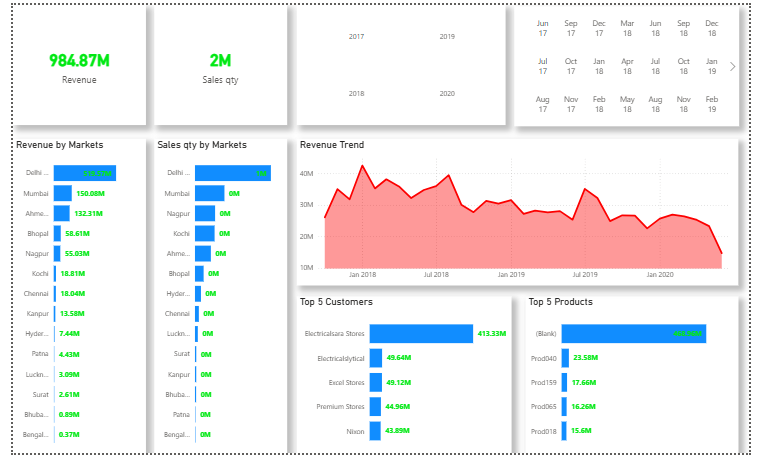

What the dashboard file says about the page in this screenshot:
{"tool":"powerbi","page":{"name":"Page 1","canvas":[1280,780],"ordinal":0},"visuals":[{"type":"card","fields":{"Values":["BaseMeasure.Revenue"]},"box":[0,0,231,209.1],"z":0},{"type":"card","fields":{"Values":["BaseMeasure.Sales qty"]},"box":[244.6,0,230.8,208.4],"z":1000},{"type":"barChart","title":"Revenue by Markets","fields":{"Y":["BaseMeasure.Revenue"],"Category":["markets.markets_name"]},"box":[0,232.6,230.8,547.8],"z":2000},{"type":"barChart","title":"Sales qty by Markets","fields":{"Y":["BaseMeasure.Sales qty"],"Category":["markets.markets_name"]},"box":[244.6,232.6,230.8,547.8],"z":3000},{"type":"slicer","fields":{"Values":["date.year"]},"box":[494,0,363.5,208.4],"z":4000},{"type":"slicer","fields":{"Values":["date.cy_date"]},"box":[871.6,1.7,391,208.4],"z":4001},{"type":"barChart","title":"Top 5 Customers","fields":{"Y":["BaseMeasure.Revenue"],"Category":["customers.custmer_name"]},"box":[494.4,506.5,373.8,273.9],"z":4002},{"type":"barChart","title":"Top 5 Products","fields":{"Y":["BaseMeasure.Revenue"],"Category":["products.product_code"]},"box":[892.3,506.5,370.4,273.9],"z":4003},{"type":"lineChart","title":"Revenue Trend","fields":{"Y":["BaseMeasure.Revenue"],"Category":["date.cy_date"]},"box":[494.4,232.6,768.3,254.9],"z":4004}]}

Visuals, with their boxes in screenshot pixels (x1, y1, x2, y2), scaled from the page's 1280x780 canvas onto the 758x463 screenshot:
card - BaseMeasure.Revenue: bbox(0, 0, 137, 124)
card - BaseMeasure.Sales qty: bbox(145, 0, 282, 124)
"Revenue by Markets" barChart: bbox(0, 138, 137, 462)
"Sales qty by Markets" barChart: bbox(145, 138, 282, 462)
slicer - date.year: bbox(293, 0, 508, 124)
slicer - date.cy_date: bbox(516, 1, 748, 125)
"Top 5 Customers" barChart: bbox(293, 301, 514, 462)
"Top 5 Products" barChart: bbox(528, 301, 748, 462)
"Revenue Trend" lineChart: bbox(293, 138, 748, 289)
